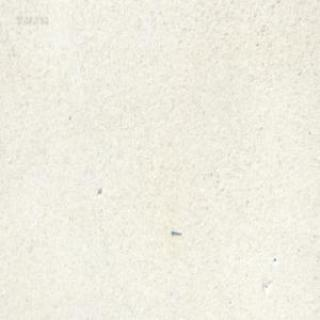Nailtrack_idkeyframe: (169, 227, 181, 236)
